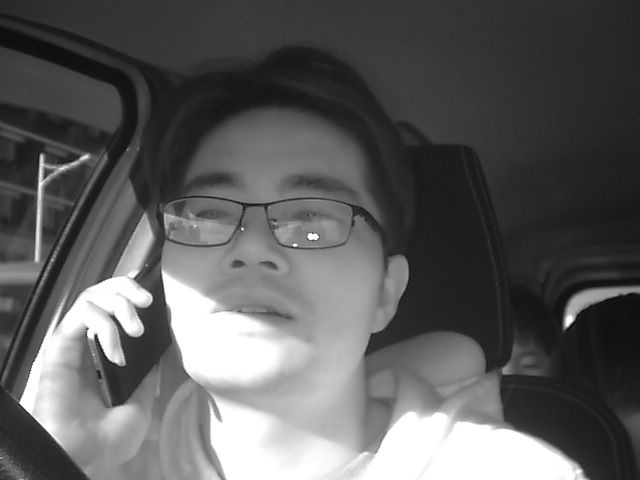hand: (33, 276, 155, 468)
